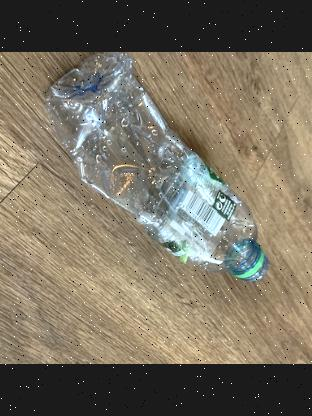Plastic Bottle: (44, 52, 270, 282)
